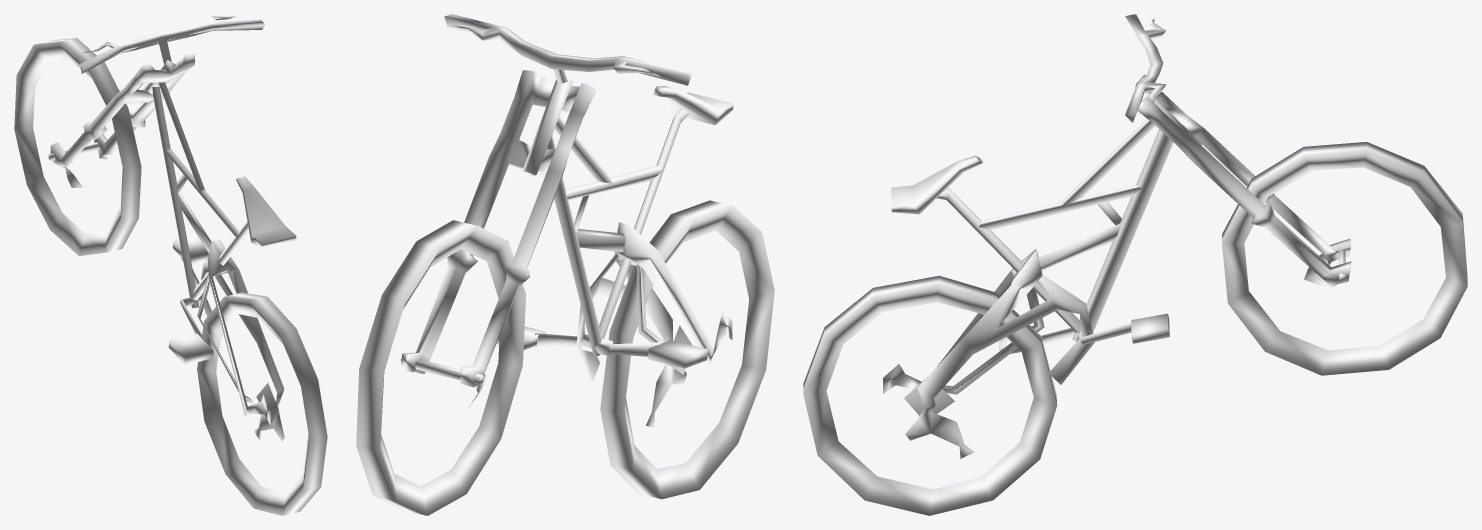
File: mtb.ico.obj
3 views of the same model, side by side, from view 1: azimuth 30°, elevation 25°; view 2: azimuth 150°, elevation 25°; view 3: azimuth 270°, elevation 25° (orthographic). The views are drawn at different scales.
Bounding box in the file's own units: 0.8745 × 1.85 × 2.46.
Materials: 1 (1 with a texture image).
